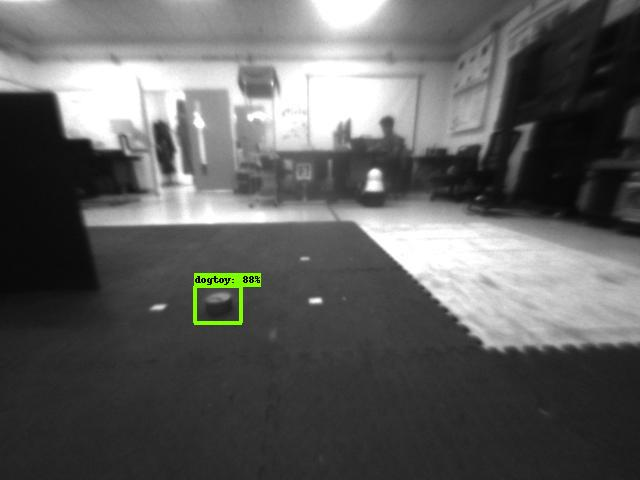dogtoy: (192, 290, 245, 314)
